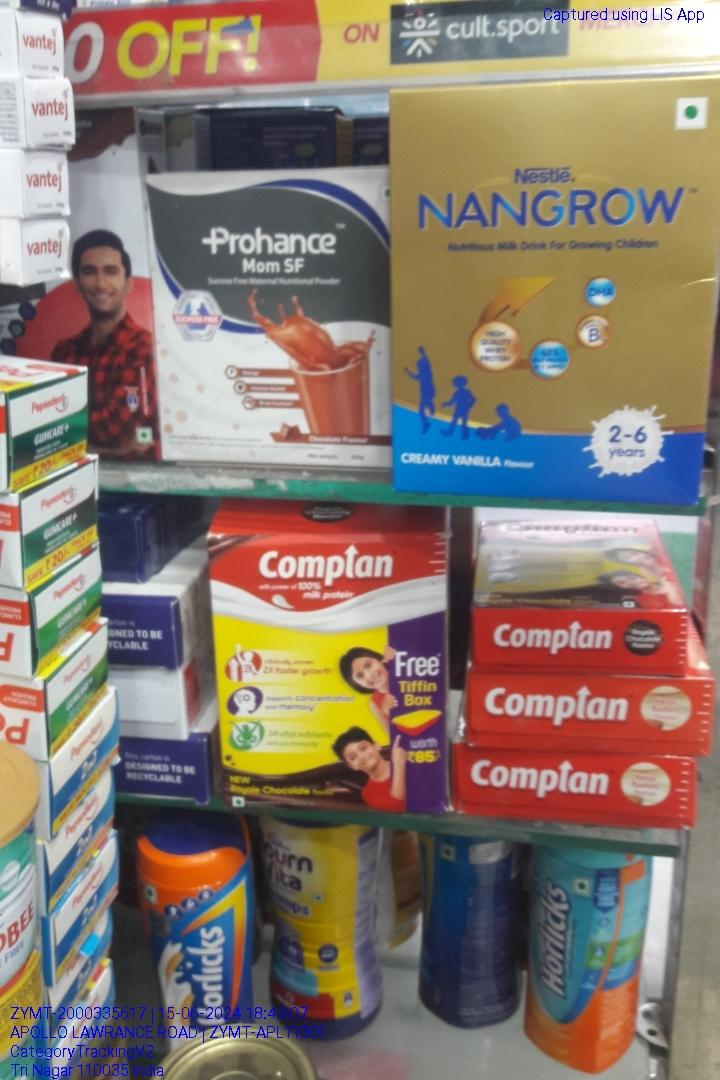BOURN_VITA_CHAMPS_500_G_JAR: (268, 817, 380, 1032)
HORLICKS_LITE_REGULAR_MALT_500_GM_JAR: (519, 838, 623, 1075)
HORLICK_CLASSIC_MALT_500_G_JAR: (138, 846, 257, 1025)
